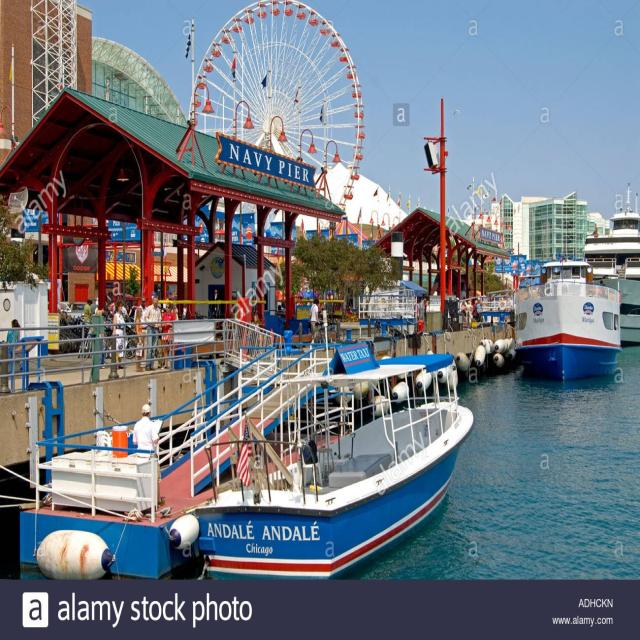body: (131, 402, 164, 508), (142, 292, 161, 372), (109, 298, 128, 371), (160, 301, 177, 369), (450, 294, 482, 329), (133, 296, 149, 361), (134, 306, 146, 374), (95, 309, 107, 370), (248, 312, 264, 356), (308, 297, 321, 344), (6, 318, 22, 349), (84, 298, 92, 353), (413, 295, 430, 319), (518, 282, 543, 298), (170, 301, 192, 319), (120, 296, 136, 320), (156, 307, 167, 340), (210, 288, 220, 320), (326, 298, 341, 314), (105, 293, 114, 319), (597, 278, 608, 298), (496, 294, 506, 312), (278, 296, 286, 314), (344, 301, 352, 317), (615, 221, 633, 227), (90, 302, 97, 313), (488, 291, 493, 303), (616, 268, 620, 274)
